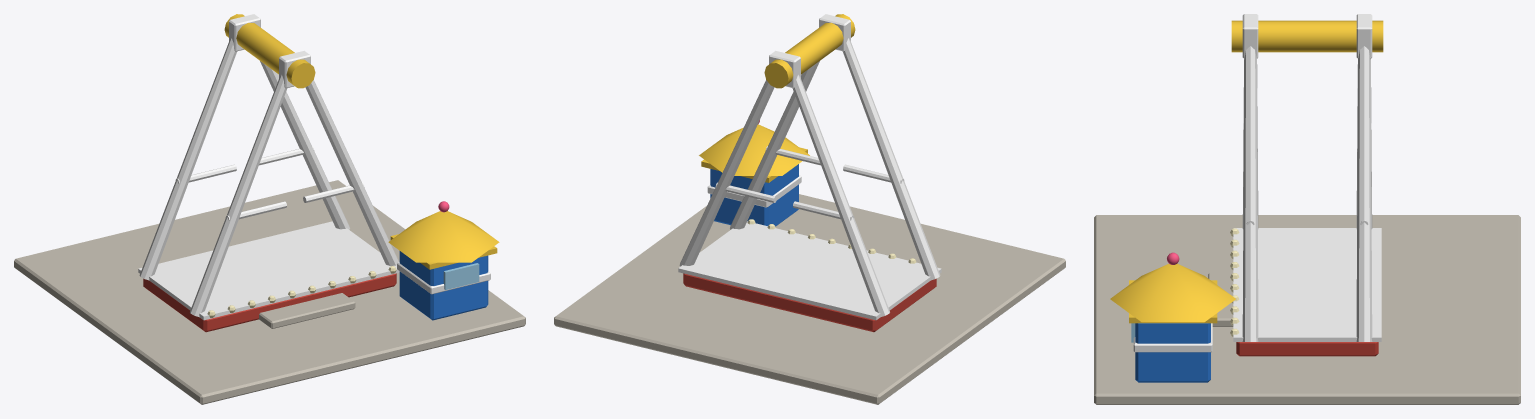
File: ferris-wheel.glb
3 renders of one model, left to right at view 1: azimuth 30°, elevation 25°; view 2: azimuth 150°, elevation 25°; view 3: azimuth 270°, elevation 25°, orthographic. The views are drawn at different scales.
Visible parts, largest first — view 1: model; view 2: model; view 3: model.
Part boxes in pixels (x1,y1,x2,y2): model: (14,14,525,404); model: (554,14,1065,404); model: (1094,14,1520,404).
Size of the model in its own units: 2.7 by 2.06 by 2.7.
1 material, 1 textured.
